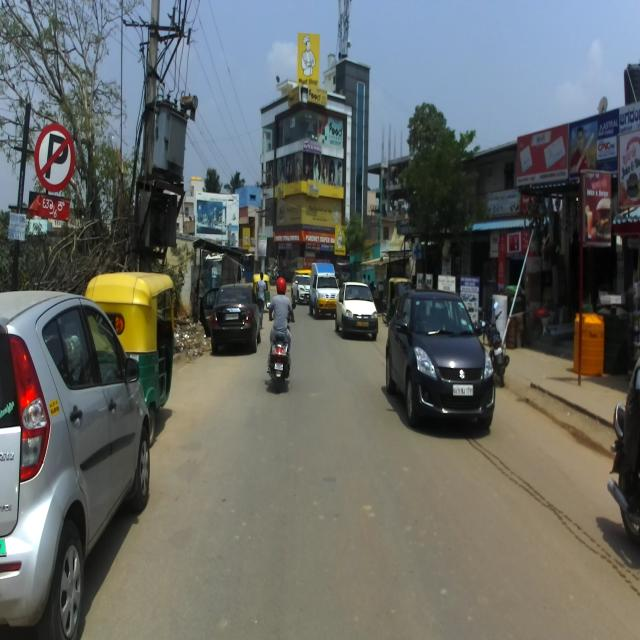car ahead at: (0, 281, 154, 640), (388, 291, 498, 430), (212, 285, 264, 352), (337, 277, 377, 340)
sign board ahead at: (34, 127, 75, 218)
